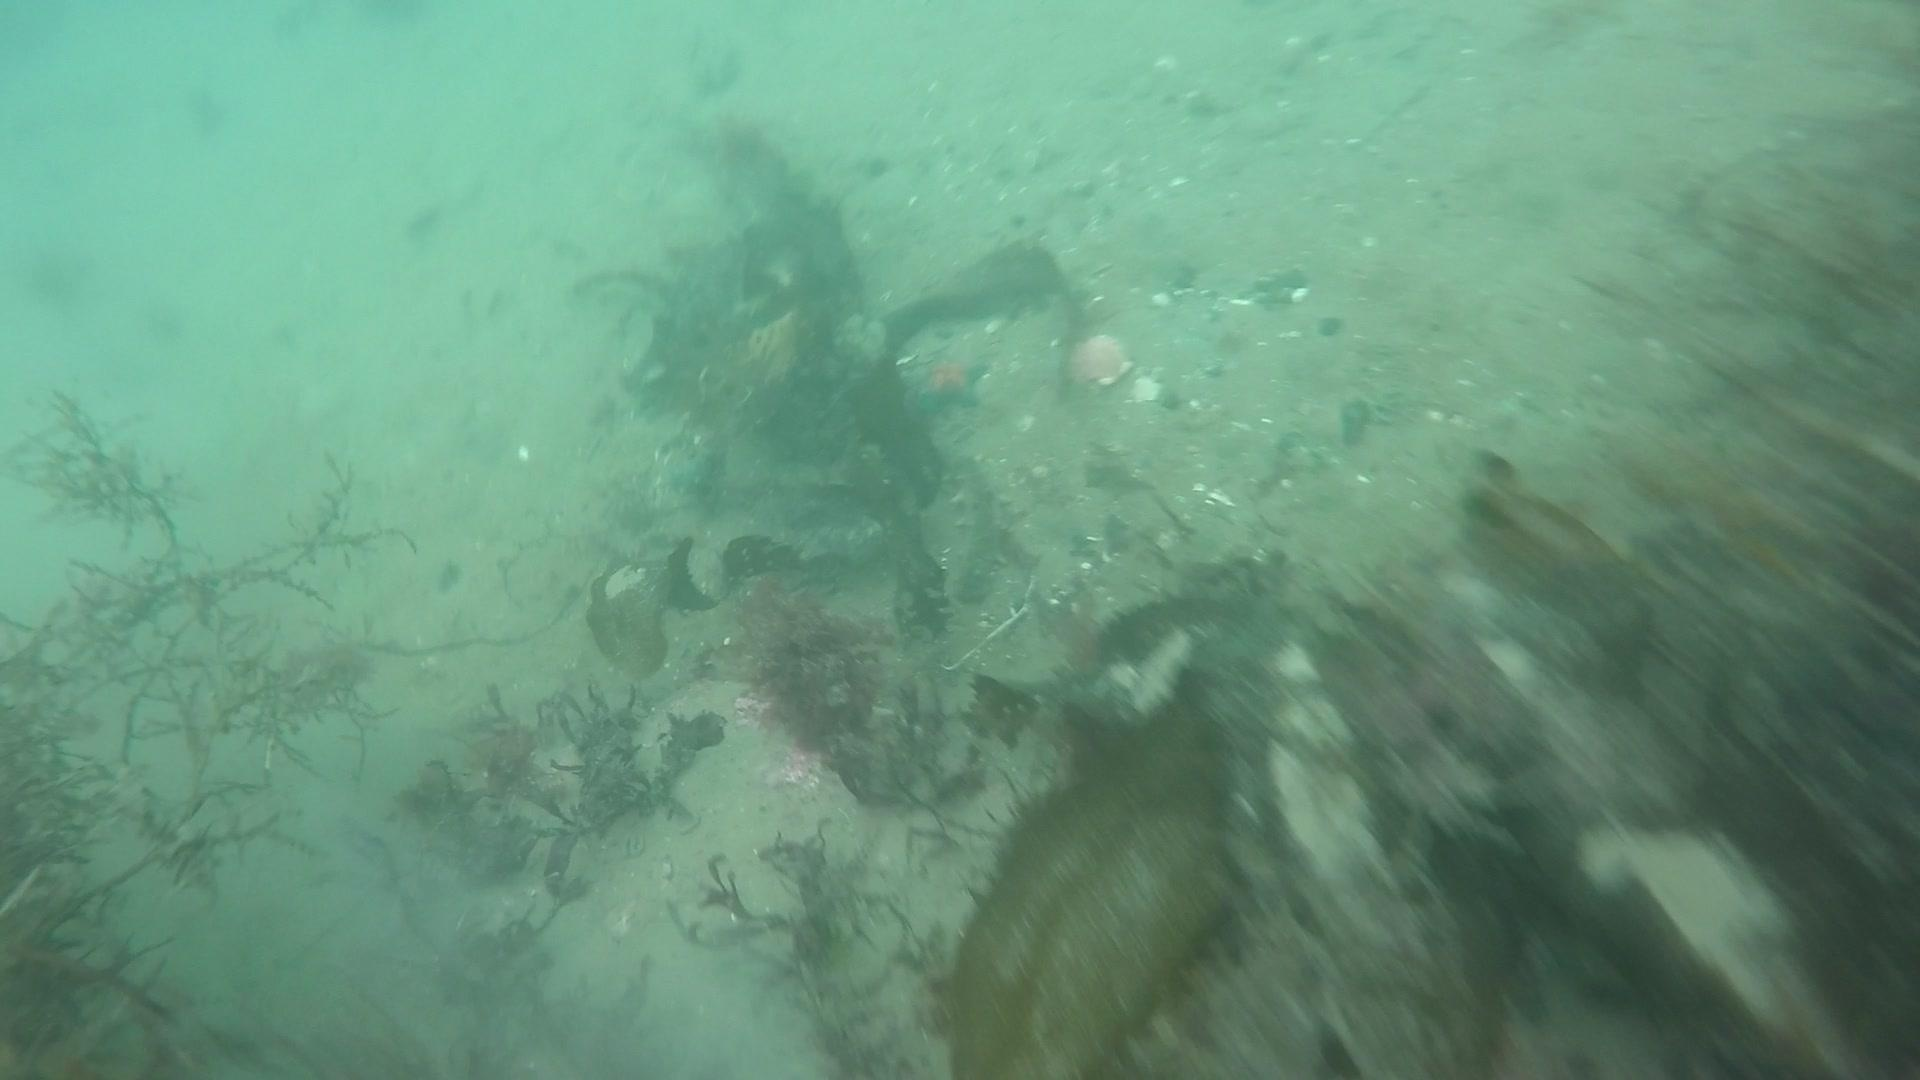holothurian: (930, 454, 1013, 615)
scallop: (1064, 330, 1135, 394)
starfish: (894, 336, 996, 422)
